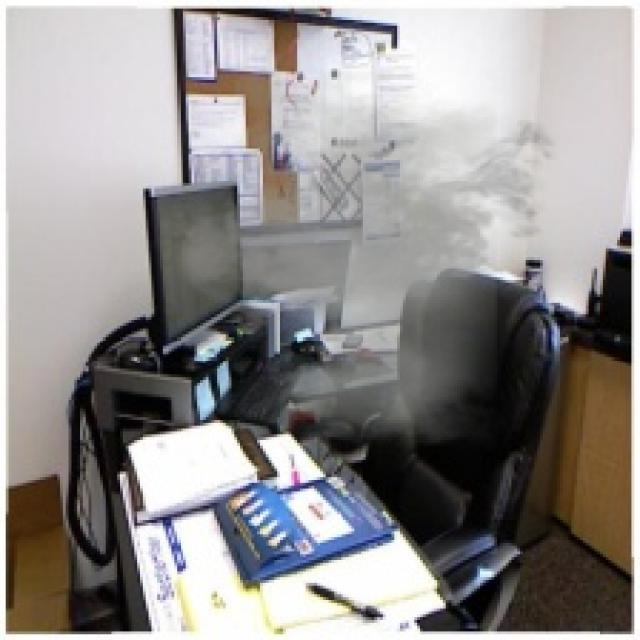Smoke: (162, 68, 568, 446)
